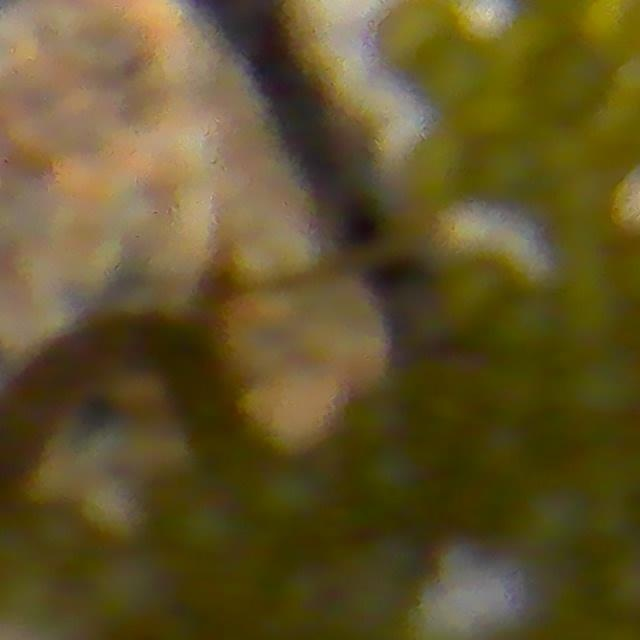SeaGrape: (544, 348, 640, 447), (86, 547, 178, 635), (509, 485, 598, 561), (532, 42, 609, 120), (462, 135, 542, 206), (413, 33, 487, 108), (484, 289, 558, 363), (377, 0, 453, 71), (254, 460, 327, 533), (174, 493, 246, 565), (439, 264, 511, 335), (400, 135, 467, 209), (467, 85, 531, 147), (576, 0, 640, 59), (29, 505, 90, 565), (539, 126, 594, 182)
